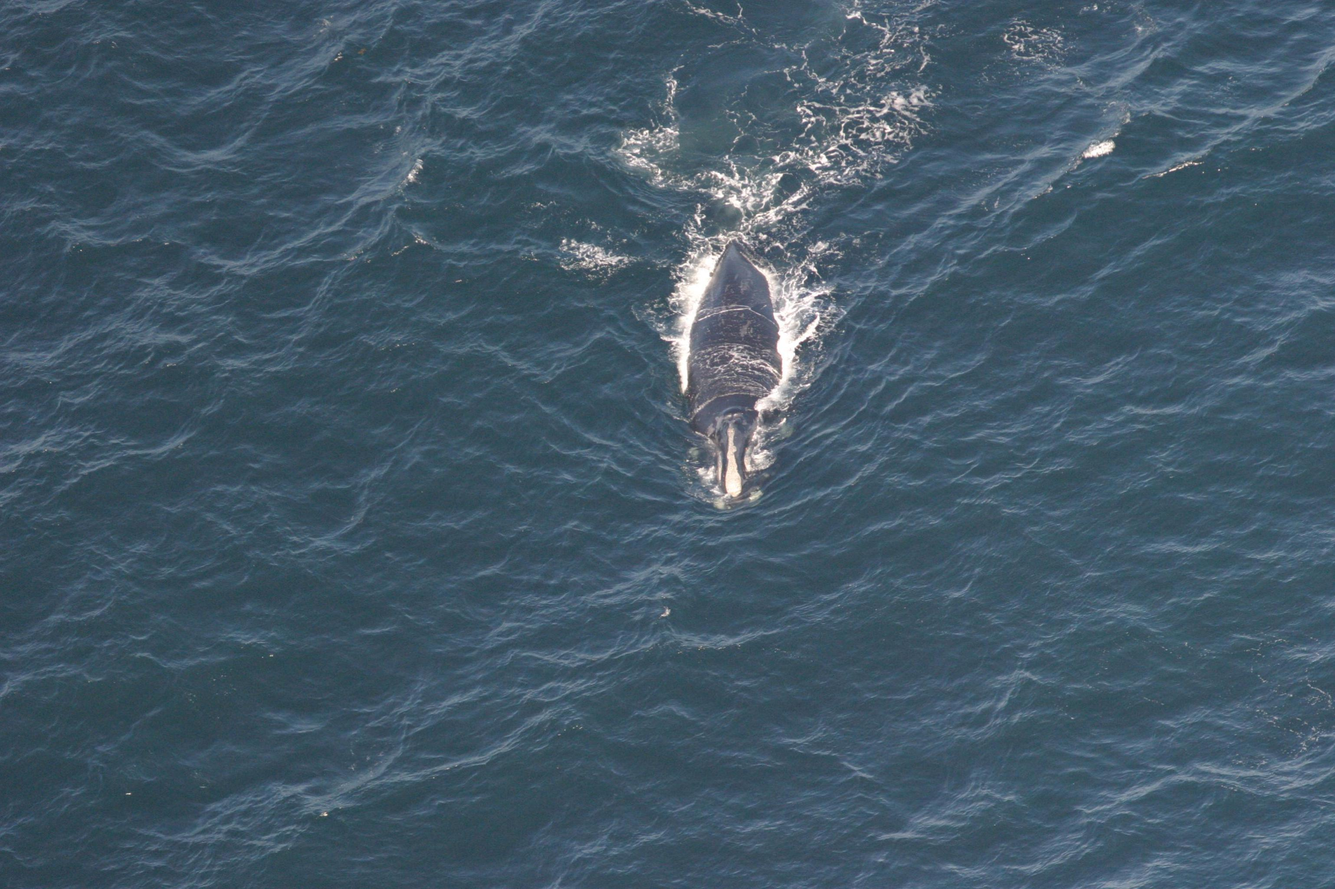whale: (664, 195, 817, 517)
